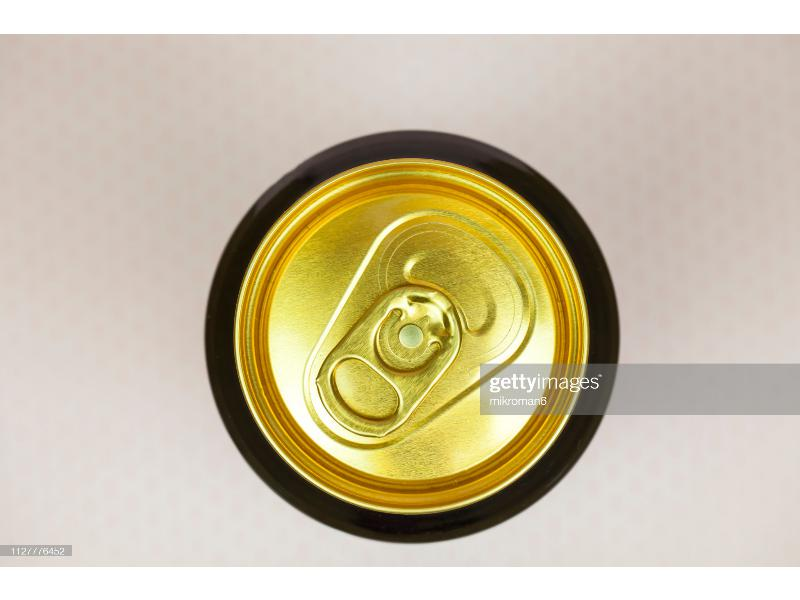can: (199, 122, 631, 545)
